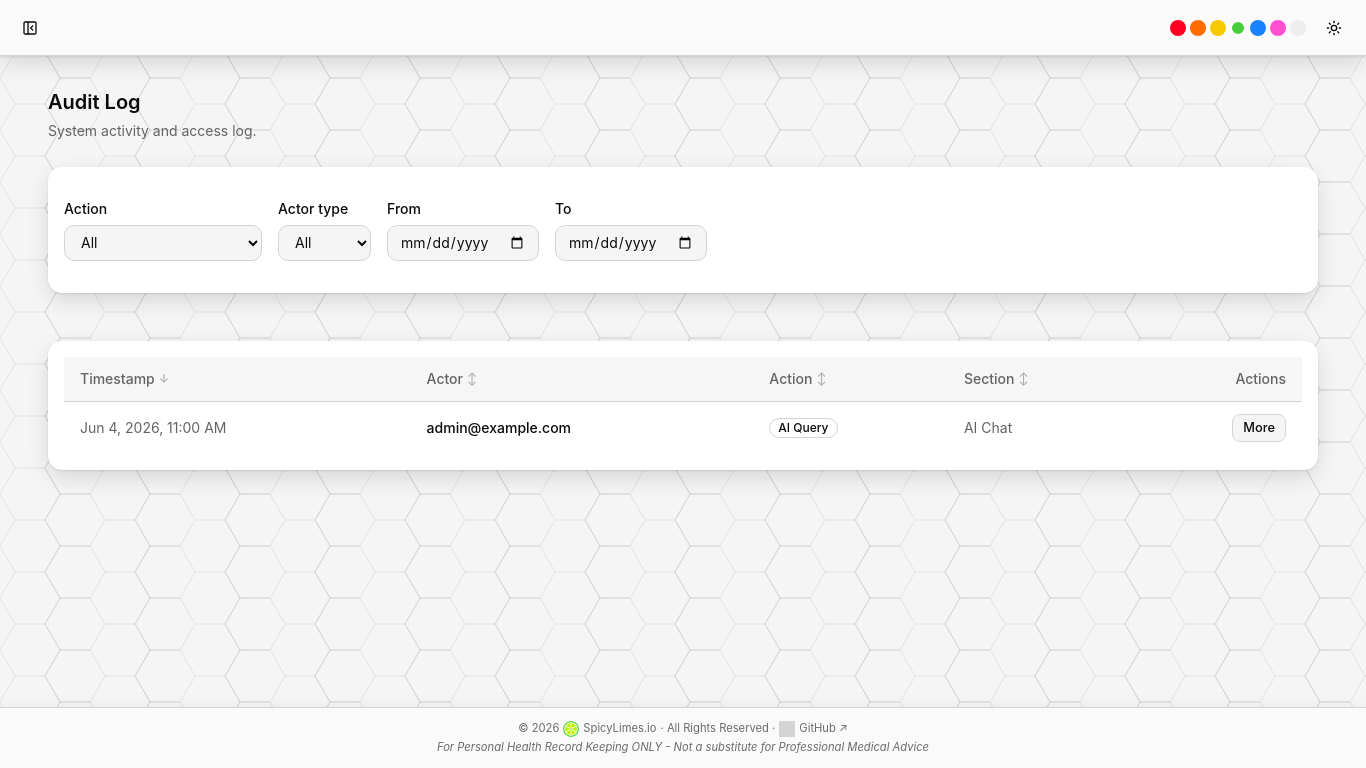
Scenario: AuditLogPage › hides the Tools Used row when the AI ran no tools
Click the button with aria-label "more details" at x=1259, y=428, box x1=1232 y1=414 x2=1286 y2=442
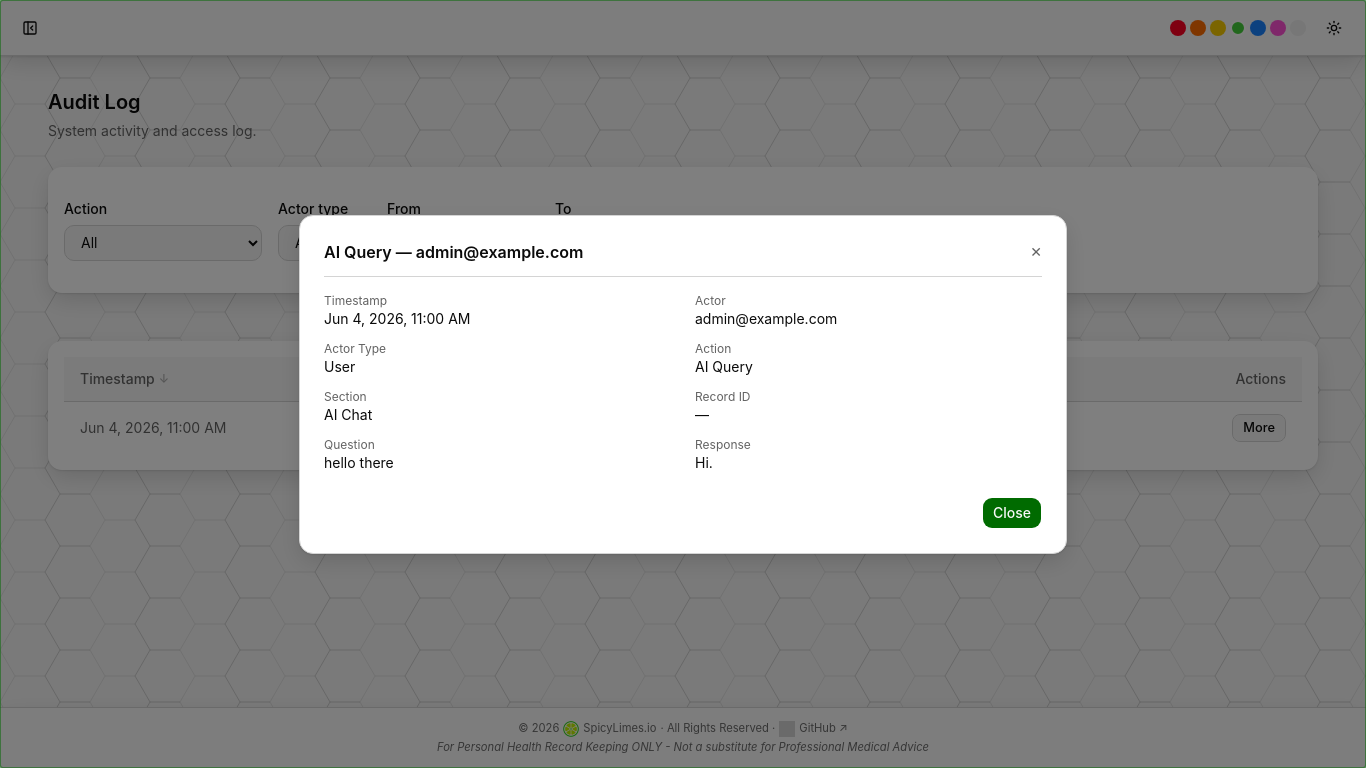
Now the dialog shows "hello there", box x1=324 y1=454 x2=394 y2=470
